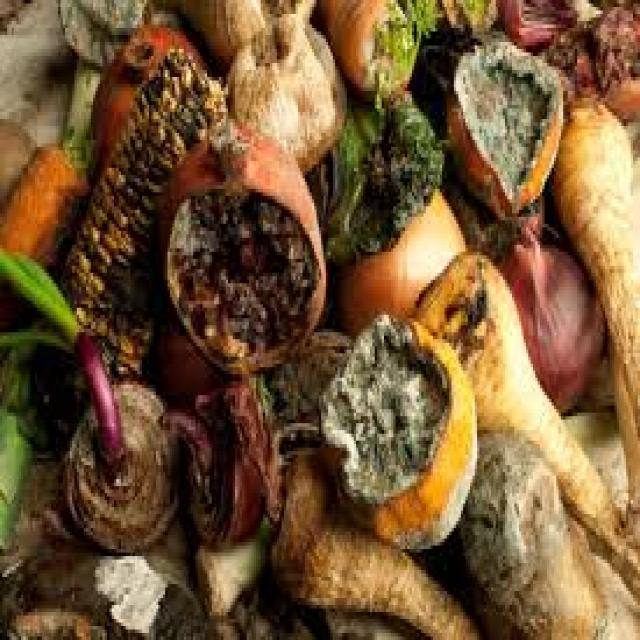organic waste: (414, 245, 638, 636), (46, 46, 224, 398), (193, 325, 352, 619), (263, 444, 479, 637), (2, 451, 216, 637), (314, 308, 477, 549), (458, 426, 638, 636), (552, 91, 638, 514), (316, 0, 451, 255), (0, 244, 121, 468), (330, 171, 466, 336), (444, 32, 566, 214), (61, 374, 179, 556), (491, 217, 600, 413), (0, 126, 91, 339), (161, 374, 265, 556), (91, 21, 209, 178), (223, 21, 344, 171), (56, 0, 158, 154), (542, 3, 638, 119), (312, 0, 412, 98), (169, 0, 314, 59), (607, 339, 638, 518), (495, 0, 600, 45), (437, 0, 498, 31)
